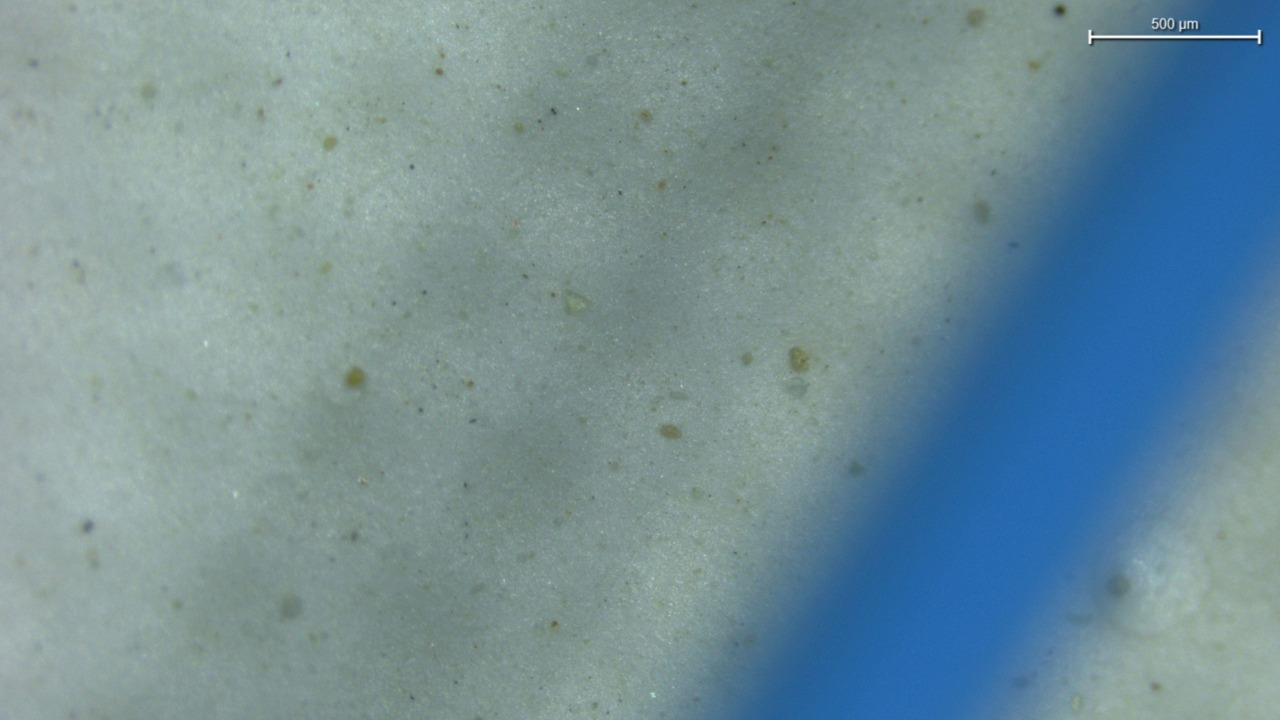microplastic_fragment: (561, 289, 591, 313)
